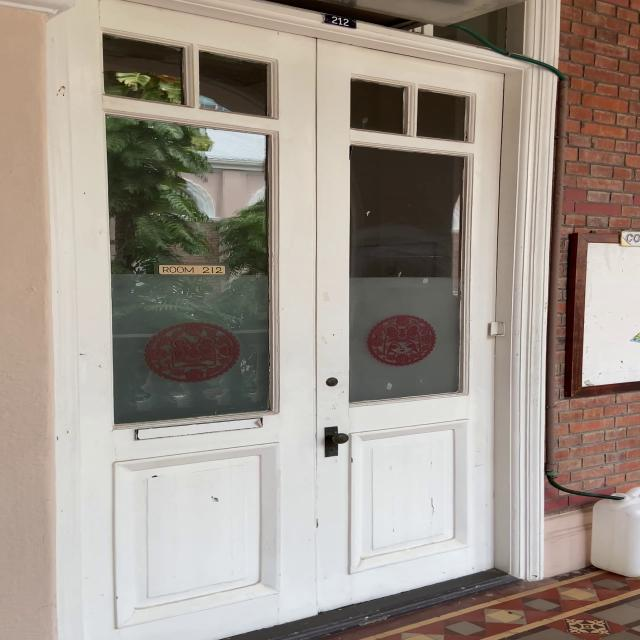room212: (318, 12, 361, 31)
room212Window: (146, 257, 242, 282)
